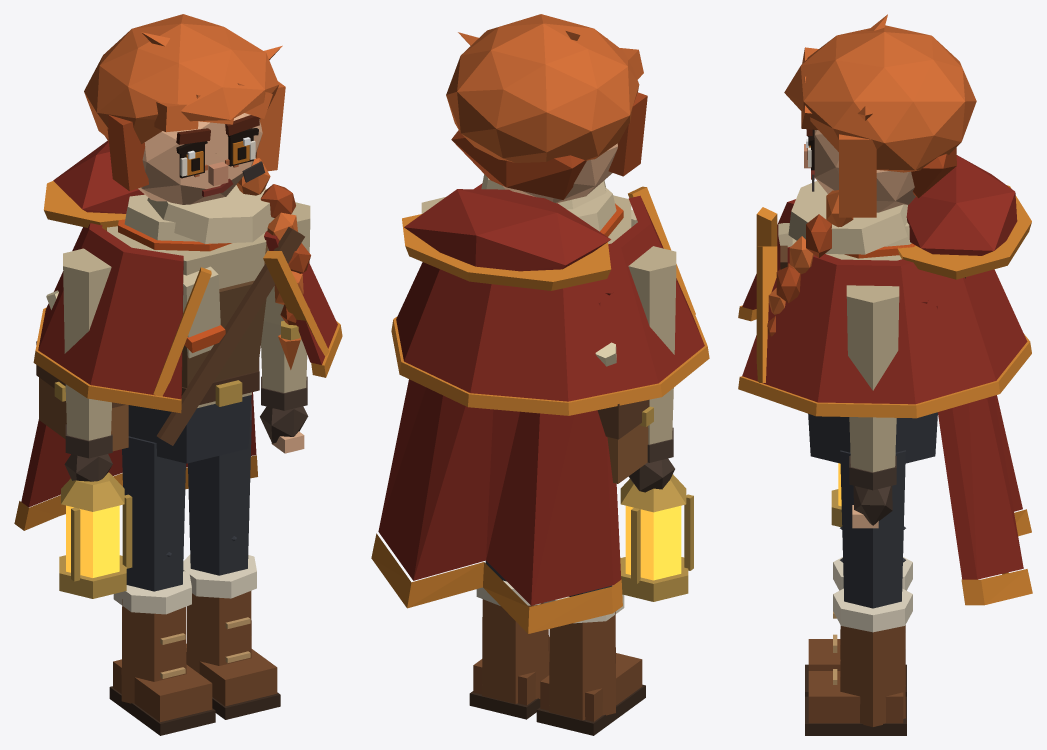
File: wren.glb
3 renders of one model, left to right at view 1: azimuth 30°, elevation 25°; view 2: azimuth 150°, elevation 25°; view 3: azimuth 270°, elevation 25°, orthographic. The views are drawn at different scales.
Visible parts, largest first — view 1: cloak, head, torso, knee_R, knee_L, lantern, leg_R, leg_L, hips, hood_down, elbow_L, elbow_R (+4 smaller); view 2: cloak, head, hood_down, knee_R, lantern, knee_L, satchel, arm_R, elbow_R, torso; view 3: cloak, head, knee_L, hood_down, torso, elbow_L, leg_L, arm_L, hips, knee_R, lantern.
Boxes of the visible parts, x1=… form: cloak: x1=14, y1=223, x2=342, y2=530; head: x1=84, y1=14, x2=285, y2=204; torso: x1=107, y1=158, x2=310, y2=445; knee_R: x1=109, y1=551, x2=215, y2=735; knee_L: x1=183, y1=535, x2=280, y2=719; lantern: x1=59, y1=472, x2=132, y2=598; leg_R: x1=122, y1=436, x2=185, y2=557; leg_L: x1=188, y1=404, x2=251, y2=541; hips: x1=128, y1=395, x2=251, y2=463; hood_down: x1=43, y1=140, x2=144, y2=230; elbow_L: x1=260, y1=321, x2=308, y2=453; elbow_R: x1=64, y1=384, x2=112, y2=481; cloak: x1=371, y1=183, x2=709, y2=633; head: x1=446, y1=14, x2=647, y2=203; hood_down: x1=402, y1=189, x2=611, y2=290; knee_R: x1=536, y1=585, x2=645, y2=735; lantern: x1=620, y1=474, x2=693, y2=601; knee_L: x1=469, y1=561, x2=549, y2=719; satchel: x1=595, y1=342, x2=653, y2=483; arm_R: x1=628, y1=246, x2=676, y2=354; elbow_R: x1=628, y1=388, x2=674, y2=492; torso: x1=481, y1=174, x2=637, y2=243; cloak: x1=738, y1=199, x2=1032, y2=605; head: x1=784, y1=14, x2=976, y2=217; knee_L: x1=805, y1=558, x2=912, y2=735; hood_down: x1=896, y1=155, x2=1031, y2=279; torso: x1=767, y1=181, x2=965, y2=336; elbow_L: x1=849, y1=417, x2=896, y2=528; leg_L: x1=840, y1=450, x2=905, y2=574; arm_L: x1=846, y1=285, x2=899, y2=390; hips: x1=808, y1=412, x2=937, y2=463; knee_R: x1=805, y1=526, x2=912, y2=696; lantern: x1=831, y1=463, x2=842, y2=527.
Size of the model in its own units: 0.8075 by 1.96 by 0.7782.
